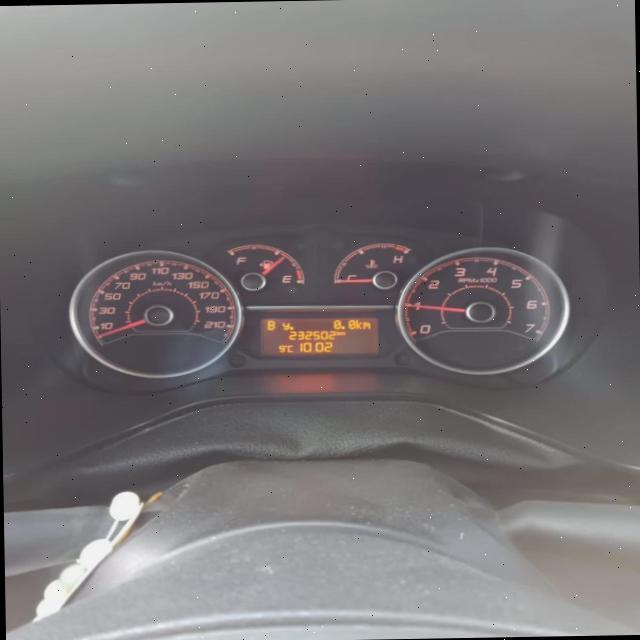odometer: (255, 312, 381, 358)
